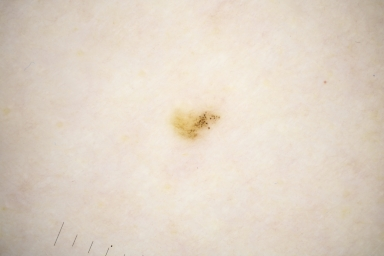nevus: (172, 107, 220, 143)
